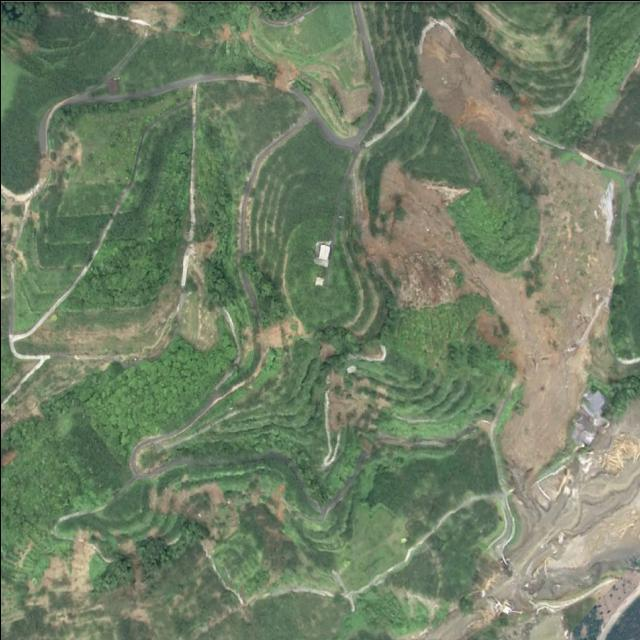landslide: (361, 23, 615, 488)
